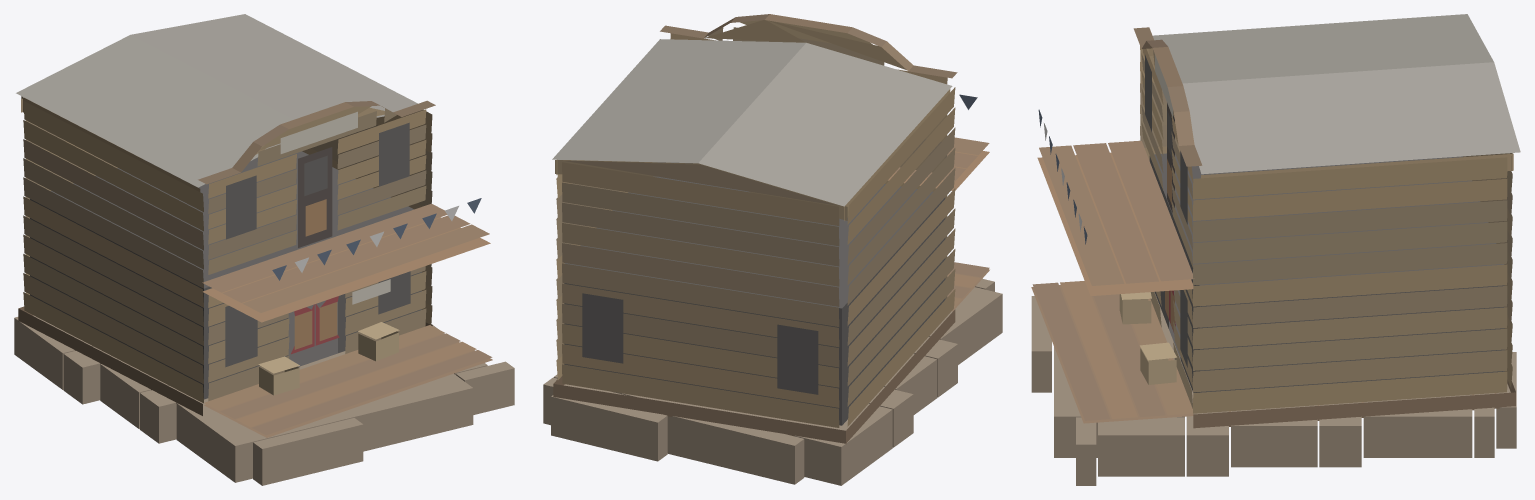
Rendered from house_3.lod.glb.
3 renders of one model, left to right at view 1: azimuth 30°, elevation 25°; view 2: azimuth 150°, elevation 25°; view 3: azimuth 270°, elevation 25°, orthographic. The views are drawn at different scales.
Visible parts, largest first — view 1: house_3; view 2: house_3; view 3: house_3.
Part boxes in pixels (x1,y1,x2,y2): house_3: [14, 14, 514, 485]; house_3: [543, 14, 1002, 485]; house_3: [1031, 14, 1520, 485].
Bounding box in the file's own units: 9.48 × 8.31 × 11.06.
